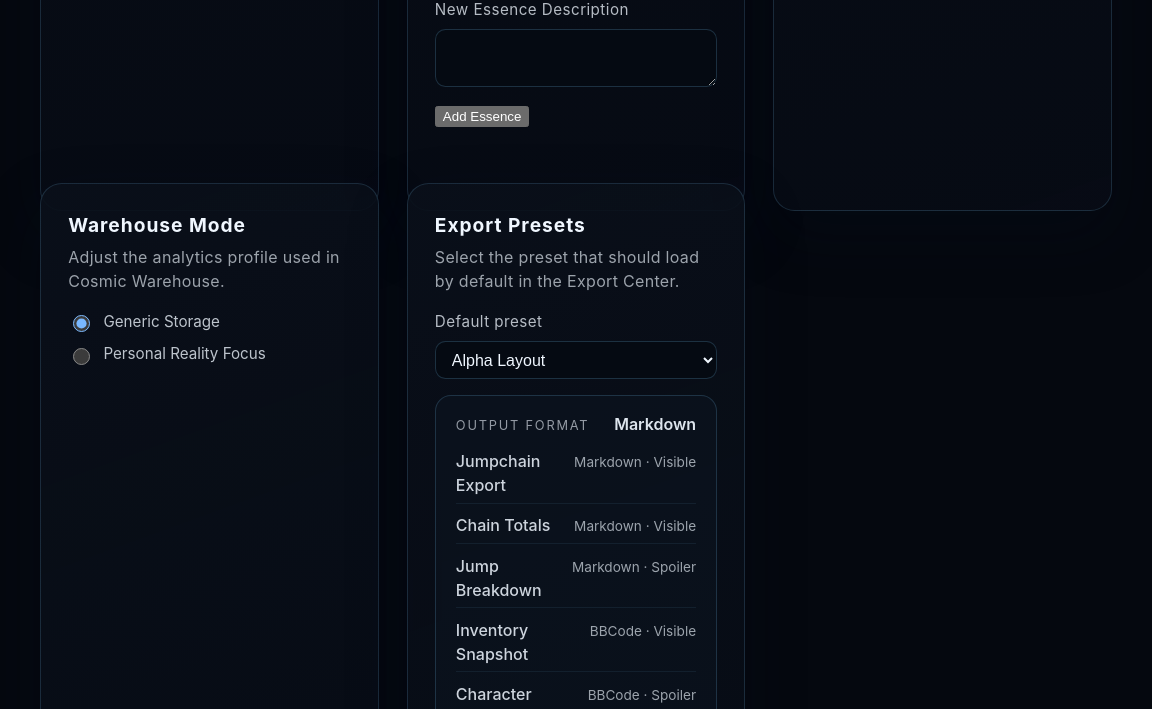
Scenario: JumpchainOptions › shows the export preset summary and updates when the selection changes
(page scrolled)
Check: the text with test id "preset-summary-format-value" reads "Markdown", box [614,414,696,434]
Check: the text "Jump Breakdown" is shown, box [456,554,552,602]
Step 1. Select "Beta Layout" in the dropdown labelled "Default preset" → {"x": 576, "y": 360}, box [435,341,717,380]
(page scrolled)
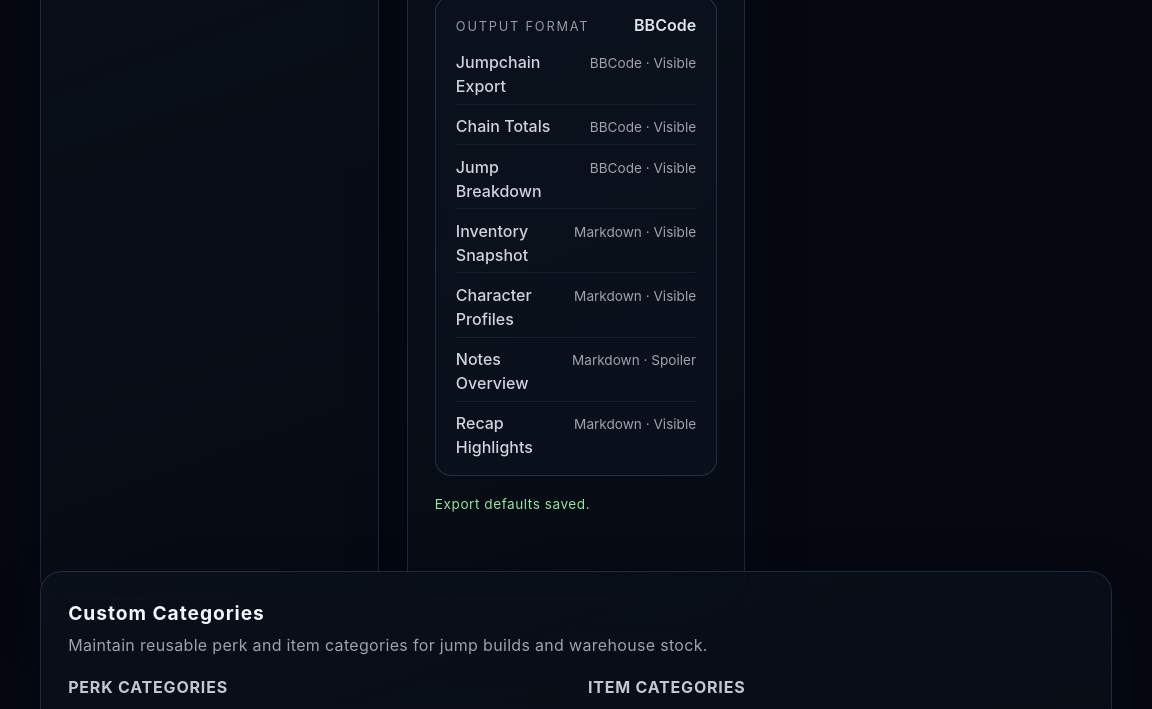
Check: the text with test id "preset-summary-format-value" reads "BBCode", box [634,16,696,36]
Check: the text "BBCode · Visible" next to "Jump Breakdown" is shown, box [590,160,696,176]
Check: the text "Markdown · Spoiler" is shown, box [572,350,696,371]
